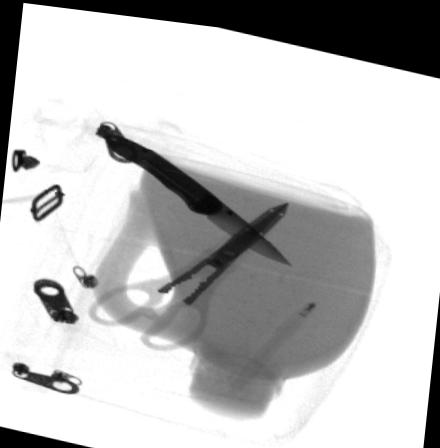Knife: (102, 130, 293, 259)
Scissors: (85, 192, 287, 346)
